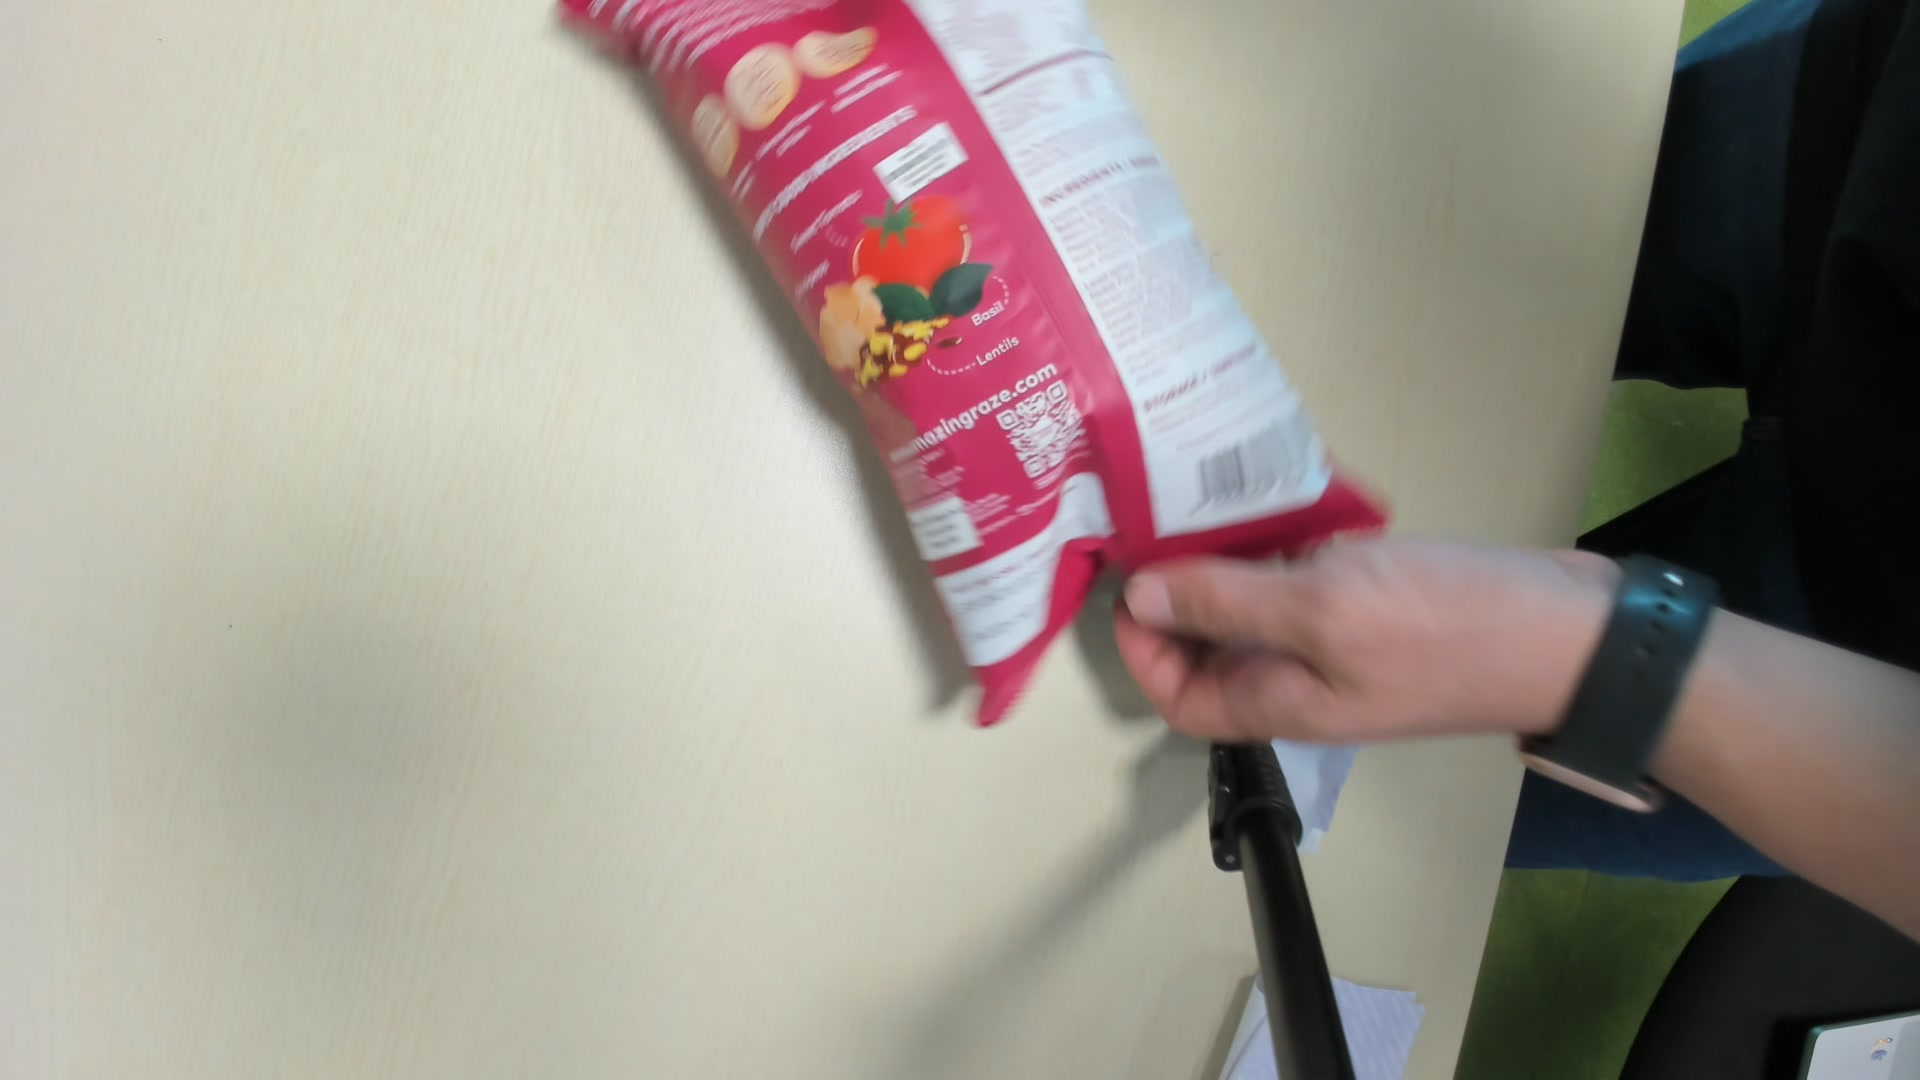PotatoChipsKeropok_100-199g_NonHalal_NonHealthy: (574, 3, 1367, 717)
